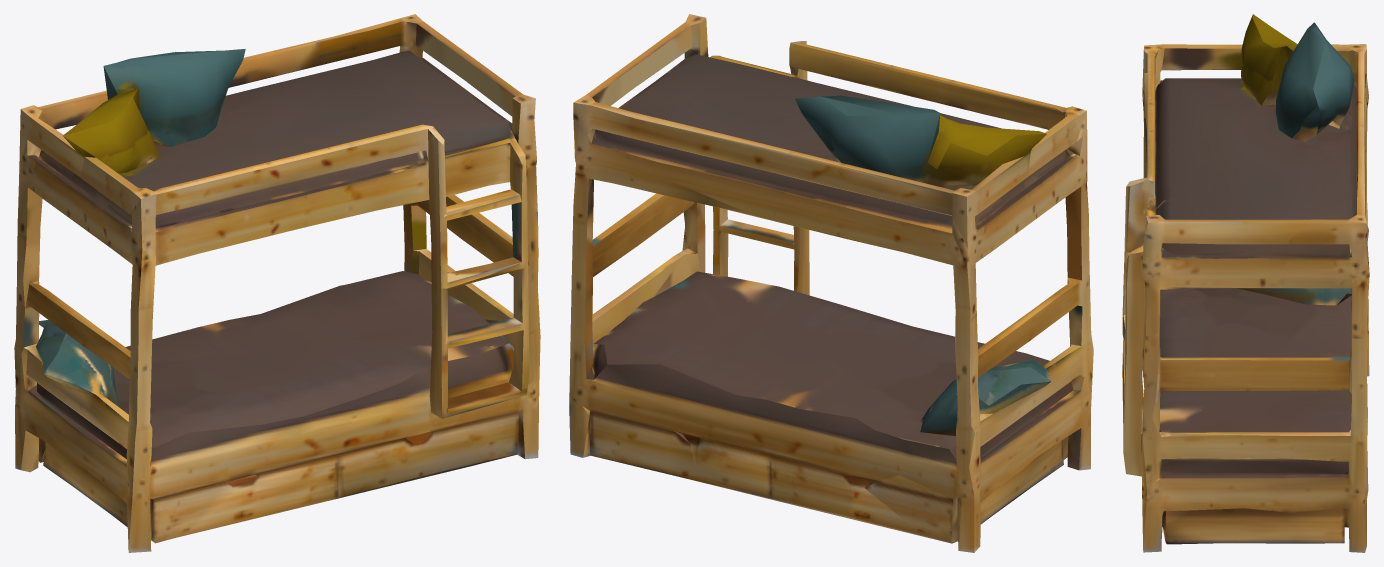
Rendered from LitSuperpose1_3D_textured.glb.
The picture shows the model from 3 angles, left to right: view 1: azimuth 30°, elevation 25°; view 2: azimuth 150°, elevation 25°; view 3: azimuth 270°, elevation 25°; orthographic projection. The views are drawn at different scales.
Visible parts, largest first — view 1: temp_mesh.ply; view 2: temp_mesh.ply; view 3: temp_mesh.ply.
Part boxes in pixels (<box>): temp_mesh.ply: <box>14,14,540,552</box>; temp_mesh.ply: <box>569,14,1093,552</box>; temp_mesh.ply: <box>1122,14,1369,552</box>.
Size of the model in its own units: 1.97 by 1.78 by 1.06.
1 material, 1 textured.
